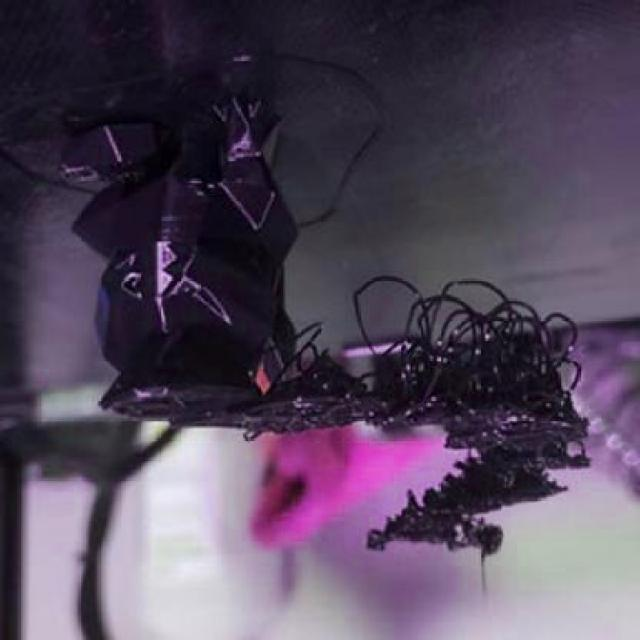Spaghetti: (243, 274, 591, 560)
